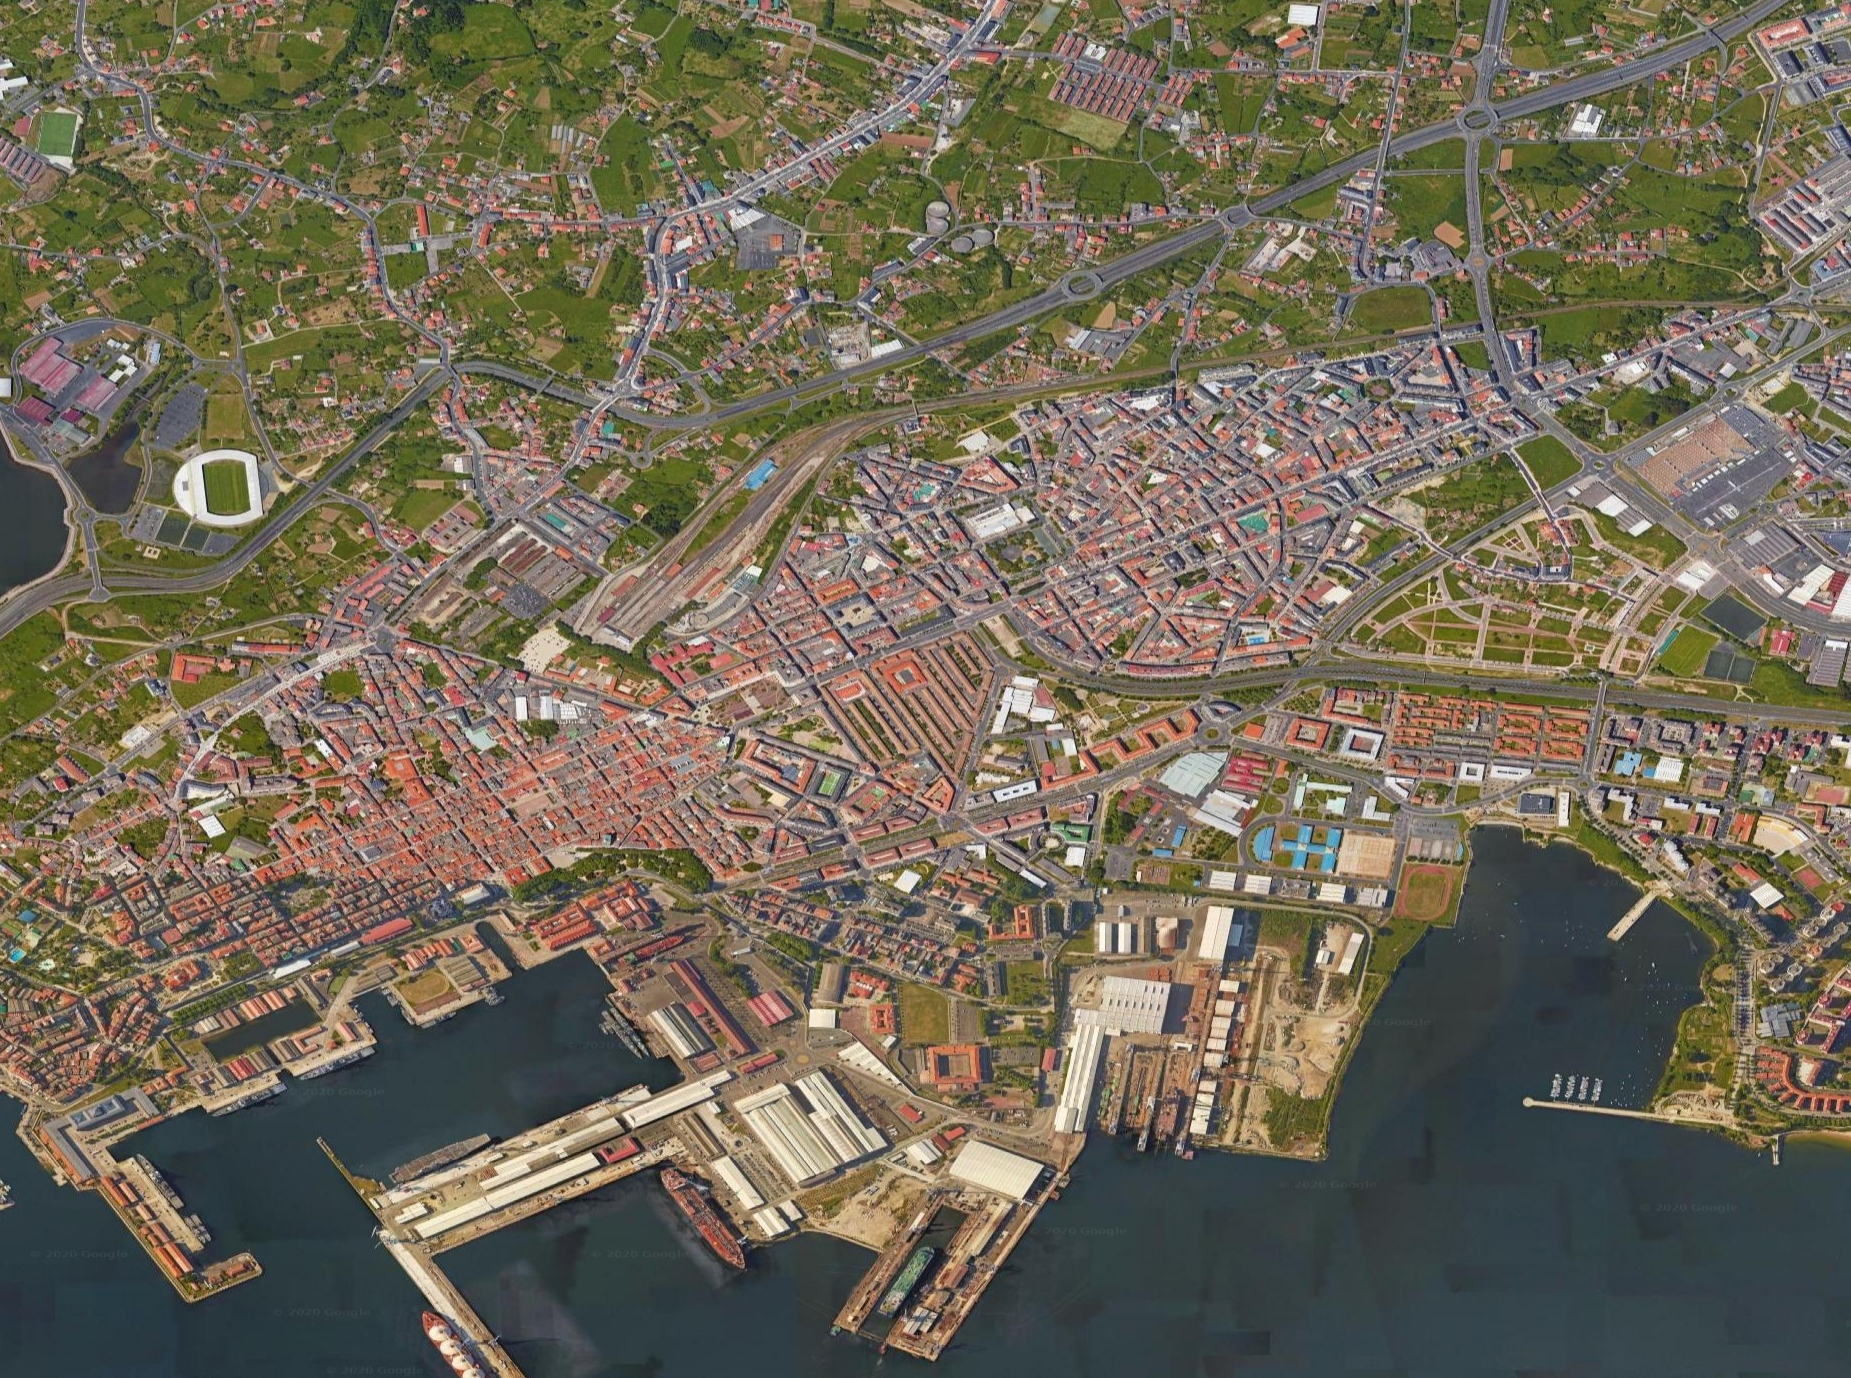harbor: (64, 811, 1356, 1378), (1533, 874, 1851, 1149)
motorway: (1, 339, 467, 646), (1295, 41, 1627, 240), (961, 166, 1297, 359), (470, 313, 961, 441), (1253, 637, 1851, 740), (1460, 245, 1550, 452)
